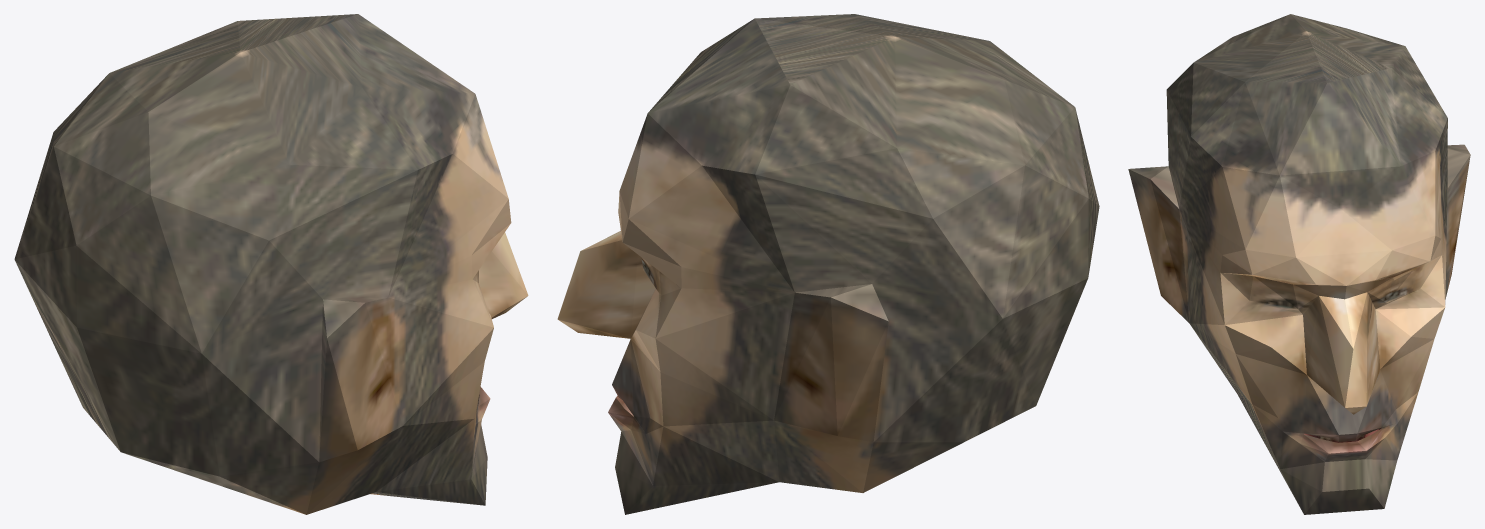
Rendered from PSIONIC-C6sJy9ql.glb.
3 views of the same model, side by side, from view 1: azimuth 30°, elevation 25°; view 2: azimuth 150°, elevation 25°; view 3: azimuth 270°, elevation 25° (orthographic). The views are drawn at different scales.
Parts seen in each view (by area): view 1: zm_Morph; view 2: zm_Morph; view 3: zm_Morph.
Part boxes in pixels (left/top/right/bottom): zm_Morph: left=14, top=14, right=528, bottom=514; zm_Morph: left=557, top=14, right=1099, bottom=514; zm_Morph: left=1128, top=14, right=1470, bottom=514.
Bounding box in the file's own units: 0.2582 × 0.2548 × 0.2016.
3 materials, 3 textured.
